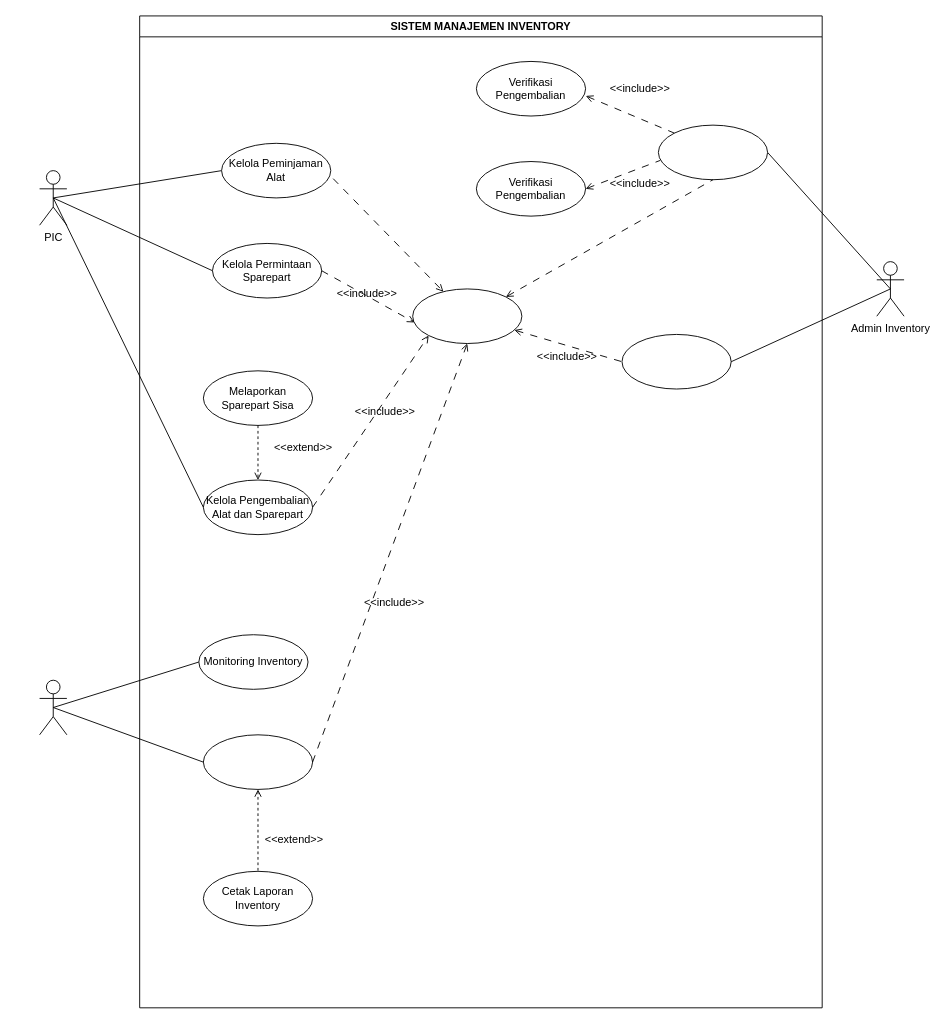
The diagram is 945 pixels wide and 1024 high, and some of its shapes have lost their labels. The centre of each missing label's shape, as x and y in pixels:
"Kelola Data Inventory" goes at point (712, 152).
"Kelola Data Pengguna" goes at point (676, 361).
"Kelola Laporan Inventory" goes at point (257, 761).
"Kepala Gudang" goes at point (53, 707).
"Login" goes at point (467, 316).
